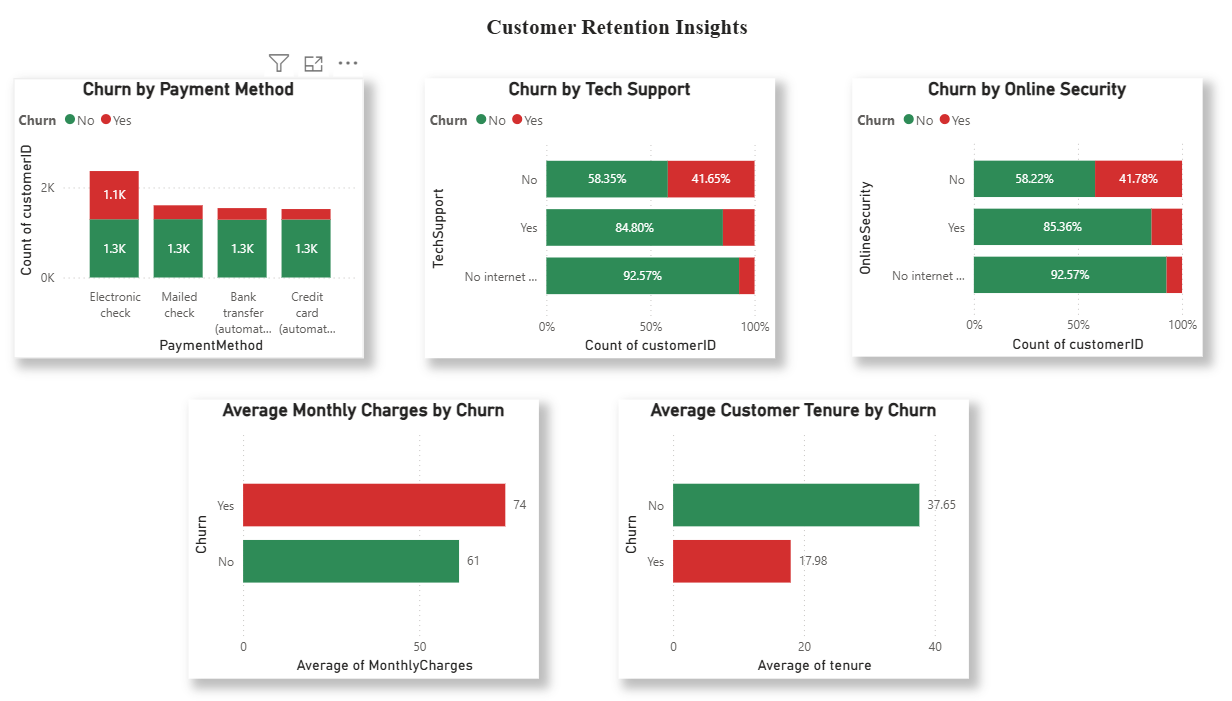

The dashboard page shown, as its layout file describes it:
{"tool":"powerbi","page":{"name":"Customer Retention Insights","canvas":[1280,720],"ordinal":1},"visuals":[{"type":"columnChart","title":"Churn by Payment Method","fields":{"Category":["telco_churn_clean.PaymentMethod"],"Y":["Count(telco_churn_clean.customerID)"],"Series":["telco_churn_clean.Churn"]},"box":[22.5,81.2,350,280],"z":0},{"type":"hundredPercentStackedBarChart","title":"Churn by Tech Support","fields":{"Category":["telco_churn_clean.TechSupport"],"Y":["Count(telco_churn_clean.customerID)"],"Series":["telco_churn_clean.Churn"]},"box":[433.8,81.2,350,280],"z":1000},{"type":"hundredPercentStackedBarChart","title":"Churn by Online Security","fields":{"Category":["telco_churn_clean.OnlineSecurity"],"Y":["Count(telco_churn_clean.customerID)"],"Series":["telco_churn_clean.Churn"]},"box":[861.2,81.2,350,278.8],"z":2000},{"type":"barChart","title":"Average Monthly Charges by Churn","fields":{"Category":["telco_churn_clean.Churn"],"Y":["Avg(telco_churn_clean.MonthlyCharges)"]},"box":[197.7,402.3,350,279.1],"z":3000},{"type":"barChart","title":"Average Customer Tenure by Churn","fields":{"Category":["telco_churn_clean.Churn"],"Y":["Avg(telco_churn_clean.tenure)"]},"box":[627.9,402.3,350,279.1],"z":4000},{"type":"textbox","box":[197.7,12.8,857,40.7],"z":5000}]}

Visuals, with their boxes in screenshot pixels (x1, y1, x2, y2), scaled from the page's 1280x720 canvas onto the 1232x701 screenshot:
"Churn by Payment Method" columnChart: select_region(22, 79, 359, 352)
"Churn by Tech Support" hundredPercentStackedBarChart: select_region(418, 79, 754, 352)
"Churn by Online Security" hundredPercentStackedBarChart: select_region(829, 79, 1166, 350)
"Average Monthly Charges by Churn" barChart: select_region(190, 392, 527, 663)
"Average Customer Tenure by Churn" barChart: select_region(604, 392, 941, 663)
textbox: select_region(190, 12, 1015, 52)
